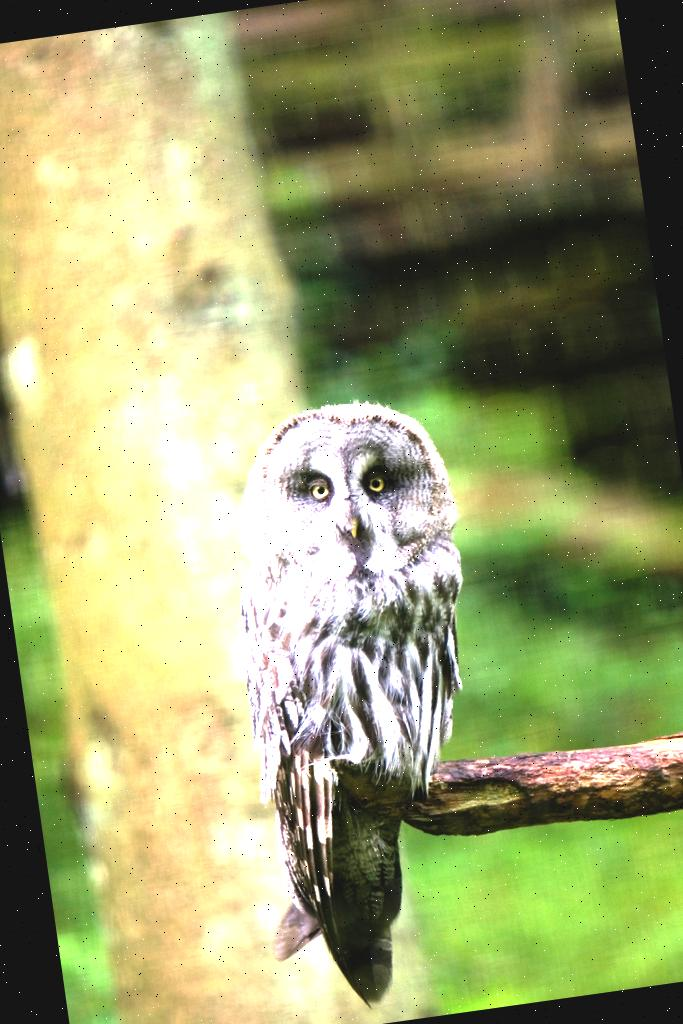Owl: (196, 386, 532, 1020)
